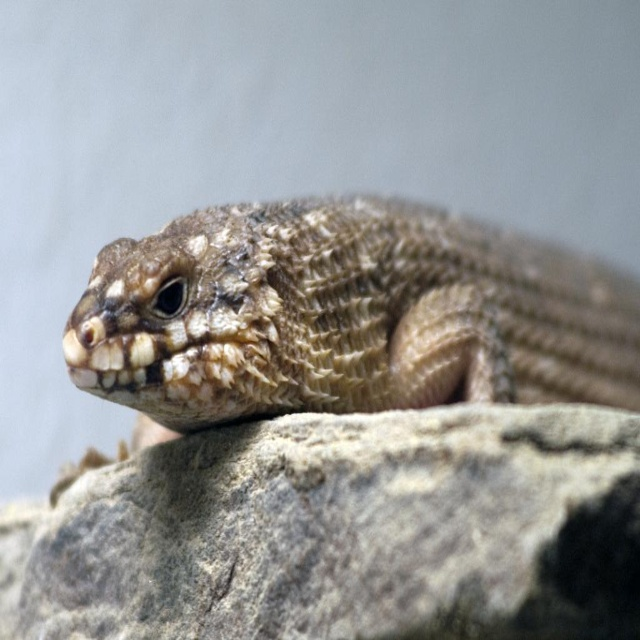Lizard: (60, 207, 624, 509)
